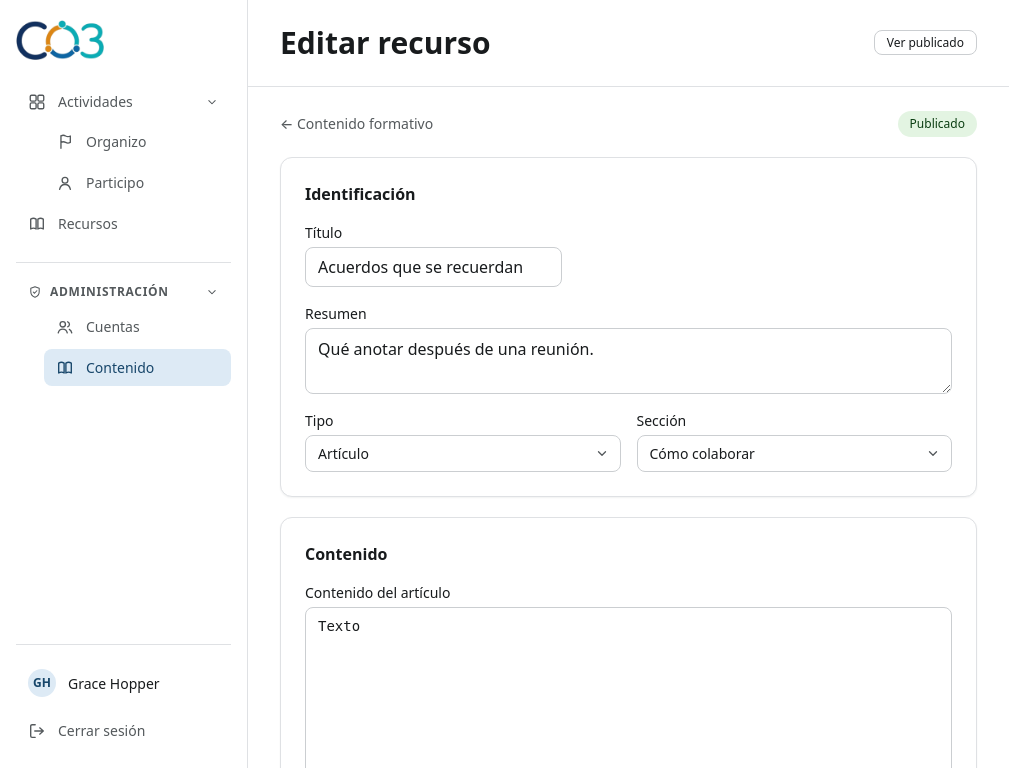
Scenario: PantallaEditarRecurso › al guardar cambios vuelve a la lista y confirma qué se guardó
Replace the text in the field labelled "Título" with "Acuerdos claros" at (434, 266), box [305,246,562,286]
(page scrolled)
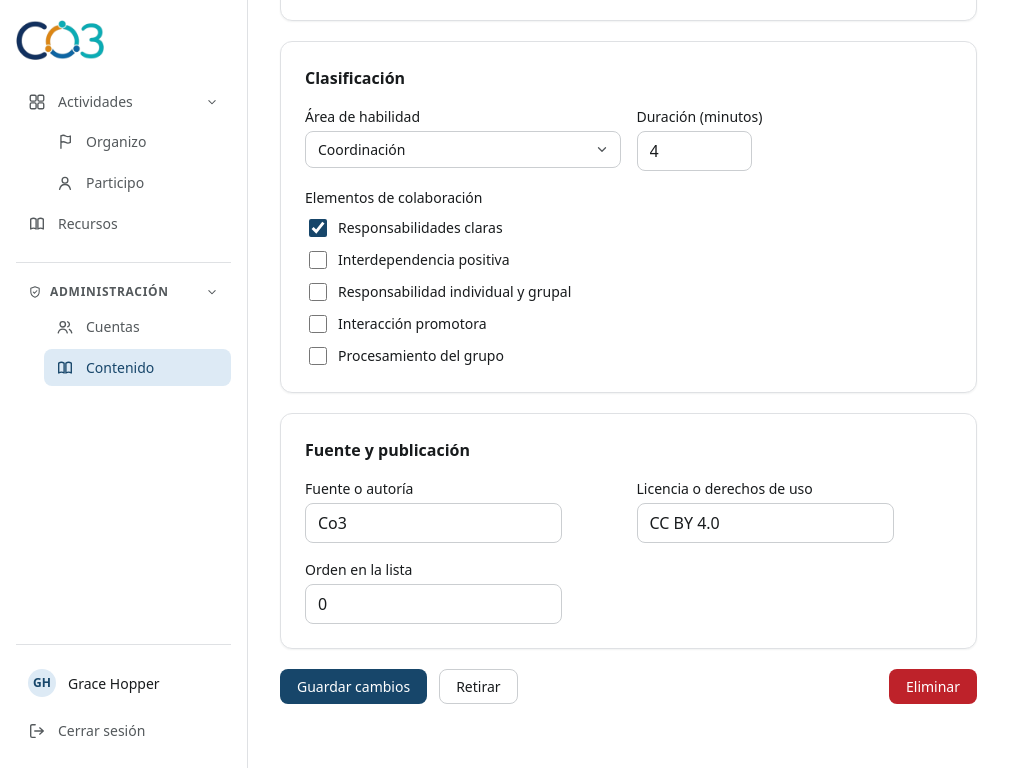
Click the button "Guardar cambios" at (354, 686), box [280,668,427,704]
(page scrolled)
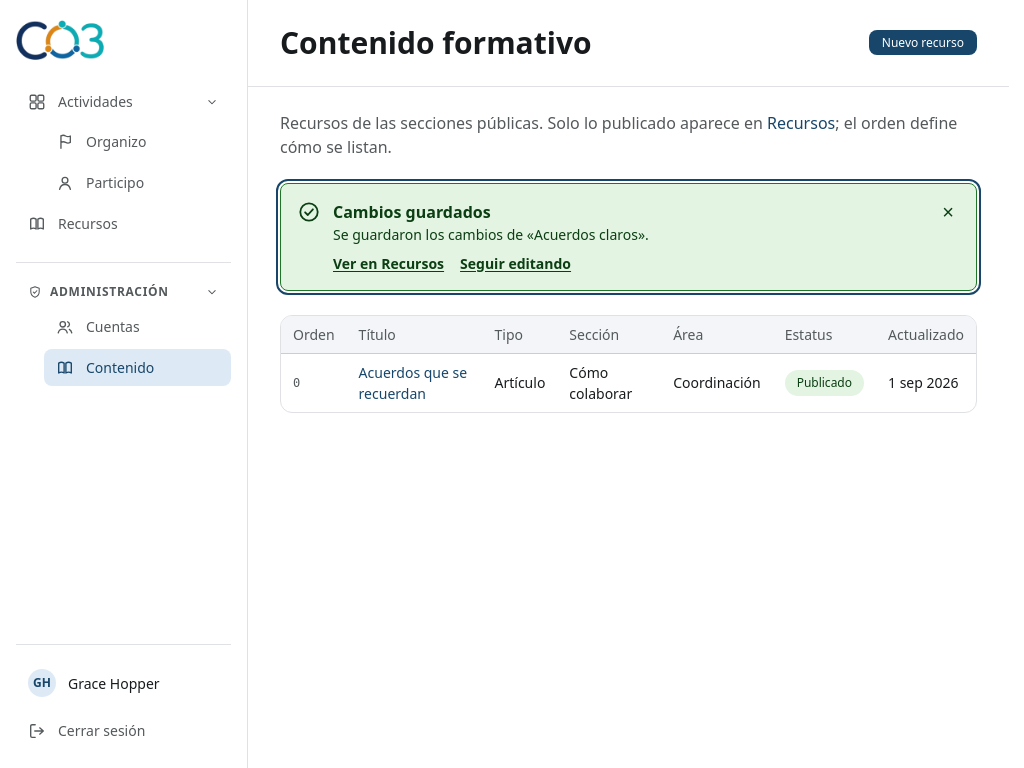
Check: the text "Cambios guardados" is shown, box [333,200,491,222]
Check: the text "Se guardaron los cambios de «Acuerdos claros»." is shown, box [333,224,649,244]
Check: the table named "Recursos formativos" is shown, box [281,316,976,412]
